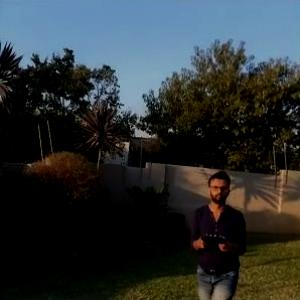follow: (186, 163, 250, 299)
